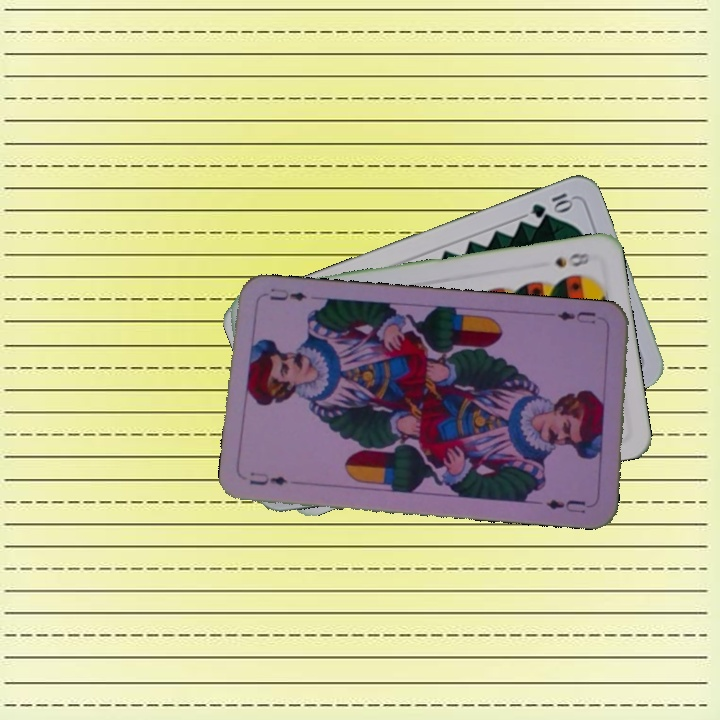EU: (245, 468, 291, 488), (553, 307, 598, 326)
G10: (527, 188, 576, 221)
S8: (551, 249, 595, 270)
